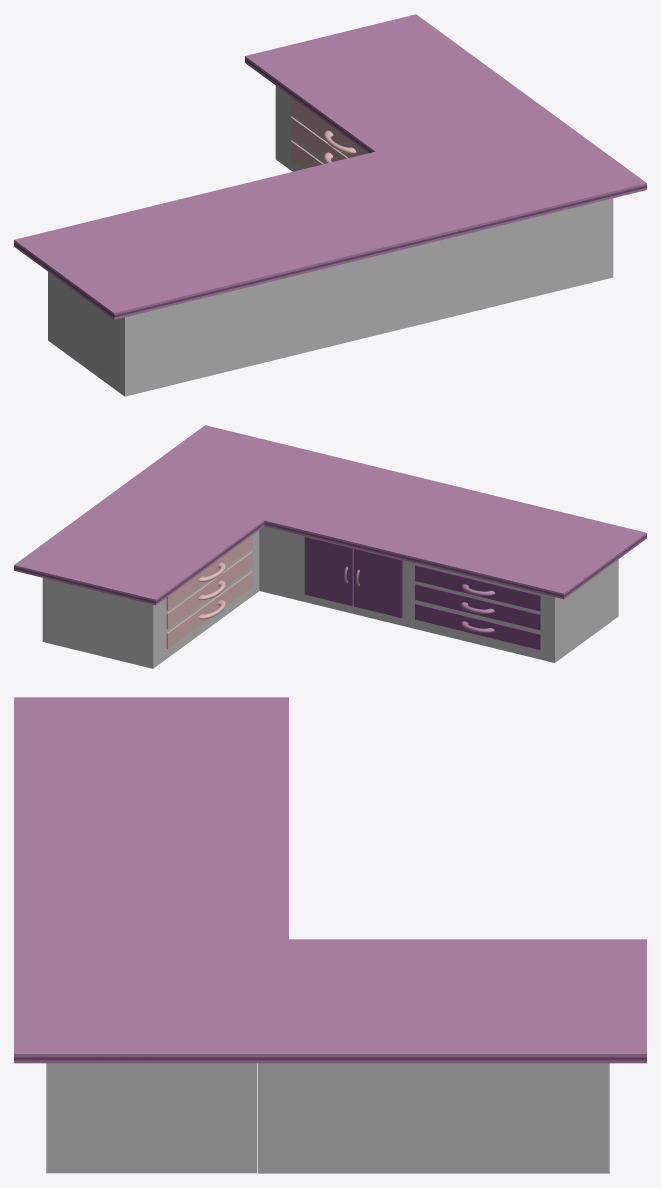
Rendered from mueble.obj.
The picture shows the model from 3 angles, top to bottom: view 1: azimuth 30°, elevation 25°; view 2: azimuth 150°, elevation 25°; view 3: azimuth 270°, elevation 25°; orthographic projection. The views are drawn at different scales.
Visible parts, largest first — view 1: group7_pasted__group5_pasted__pasted__pTorus2; view 2: group7_pasted__group5_pasted__pasted__pTorus2; view 3: group7_pasted__group5_pasted__pasted__pTorus2.
Part boxes in pixels (<box>): group7_pasted__group5_pasted__pasted__pTorus2: <box>14,14,646,396</box>; group7_pasted__group5_pasted__pasted__pTorus2: <box>14,425,646,668</box>; group7_pasted__group5_pasted__pasted__pTorus2: <box>14,697,646,1173</box>.
Bounding box in the file's own units: 9.6 × 1.68 × 7.2.
